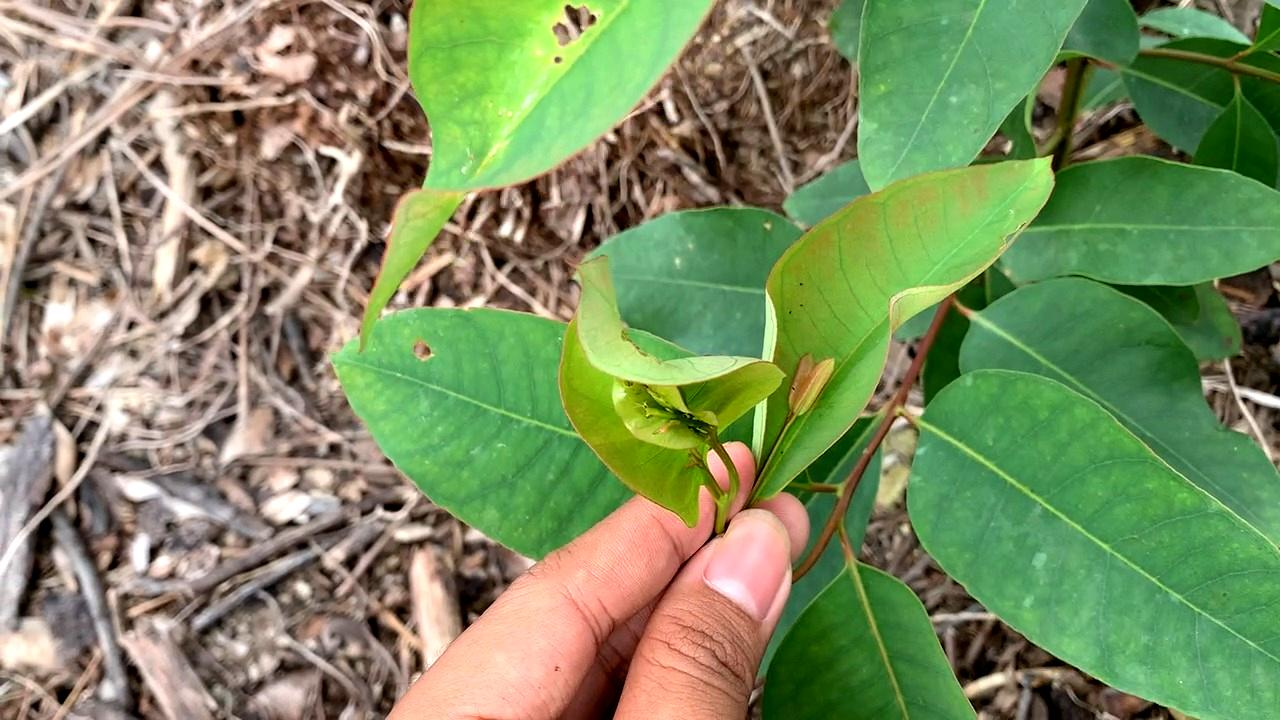Leaf Roller - Leaf: (568, 264, 783, 540)
